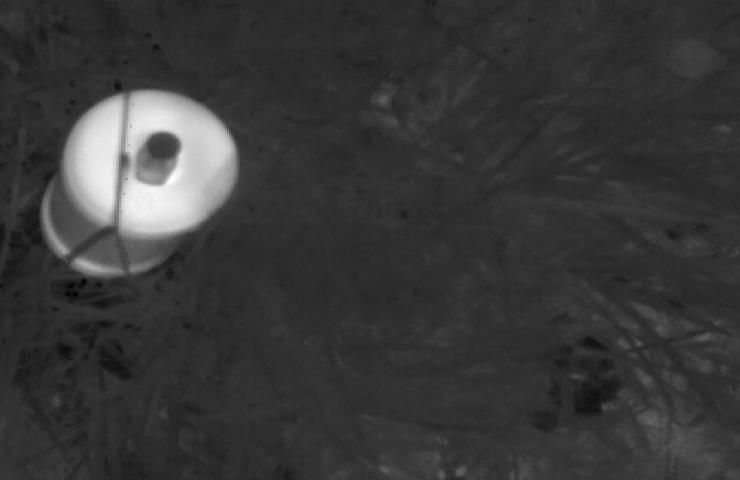landmines: (35, 85, 244, 287)
